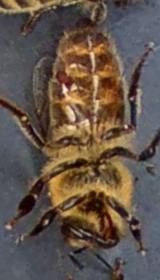varroa_mite: (49, 61, 72, 106)
